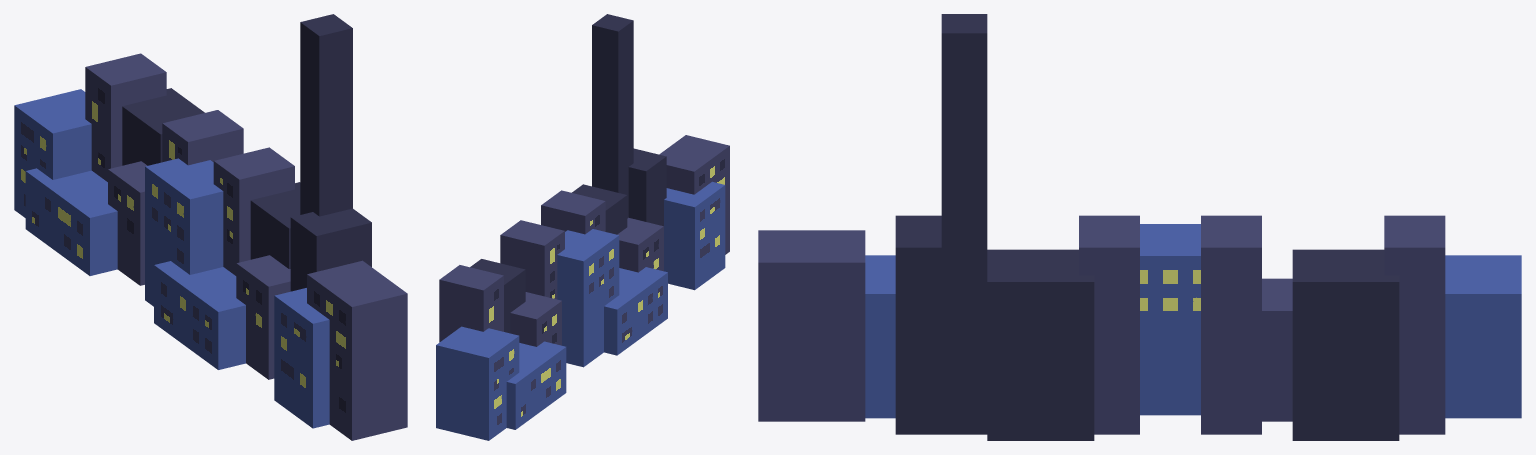
Rendered from city.glb.
3 views of the same model, side by side, from view 1: azimuth 30°, elevation 25°; view 2: azimuth 150°, elevation 25°; view 3: azimuth 270°, elevation 25° (orthographic). The views are drawn at different scales.
Visible parts, largest first — view 1: cube (×15); view 2: cube (×15); view 3: cube (×12).
Boxes of the visible parts, x1,y1,x2,y2 form: cube (×15): (14,14,407,440); cube (×15): (436,14,729,440); cube (×12): (758,14,1521,440).
Bounding box in the file's own units: 1.31 × 3.62 × 6.25.
1 material, 1 textured.
